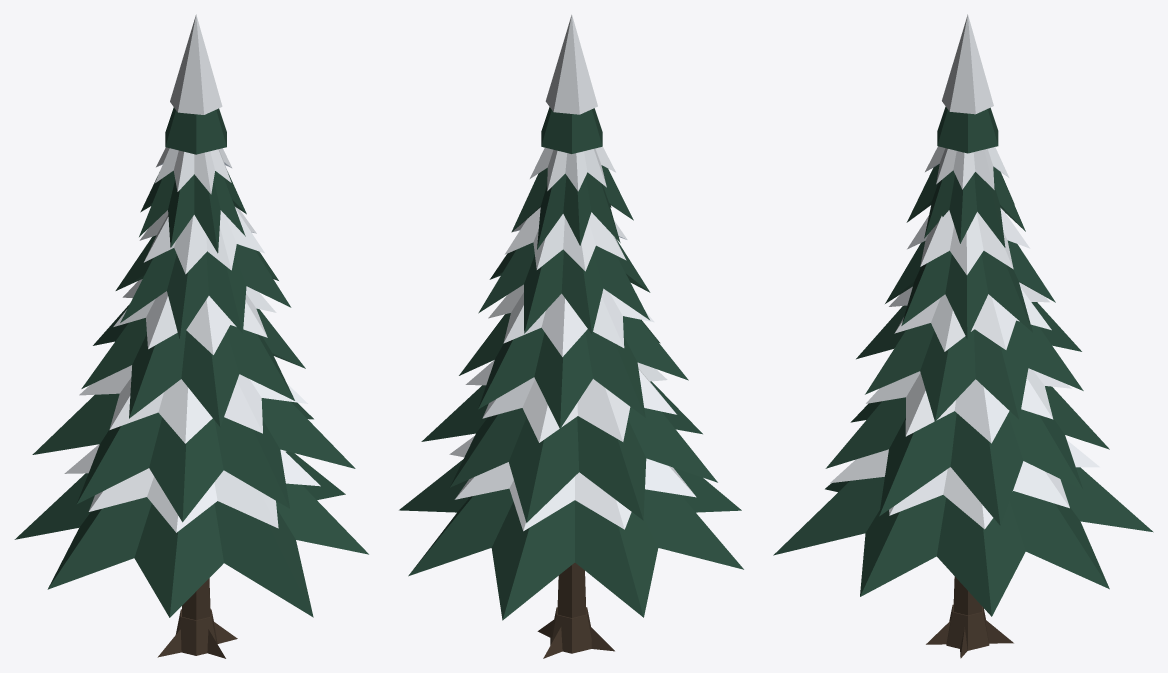
File: pine_snow.glb
3 renders of one model, left to right at view 1: azimuth 30°, elevation 25°; view 2: azimuth 150°, elevation 25°; view 3: azimuth 270°, elevation 25°, orthographic.
Visible parts, largest first — view 1: pine_snow; view 2: pine_snow; view 3: pine_snow.
Part boxes in pixels (bbox=[...]): pine_snow: bbox=[14, 14, 368, 658]; pine_snow: bbox=[399, 14, 743, 658]; pine_snow: bbox=[773, 14, 1153, 658].
Size of what is drawn, in the model's own units: 5.24 by 9.8 by 5.4.
Materials: 2 (2 with a texture image).
